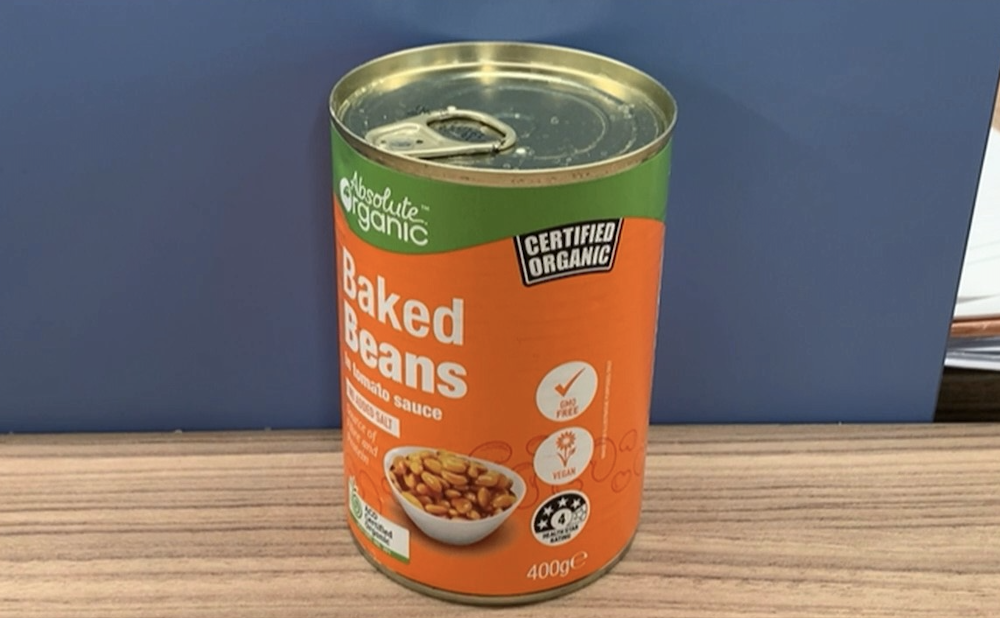Baked beans_400-499g: (343, 189, 608, 551)
